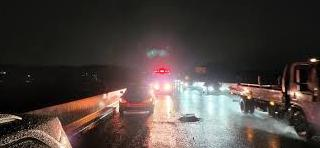pothole: (174, 109, 206, 127)
